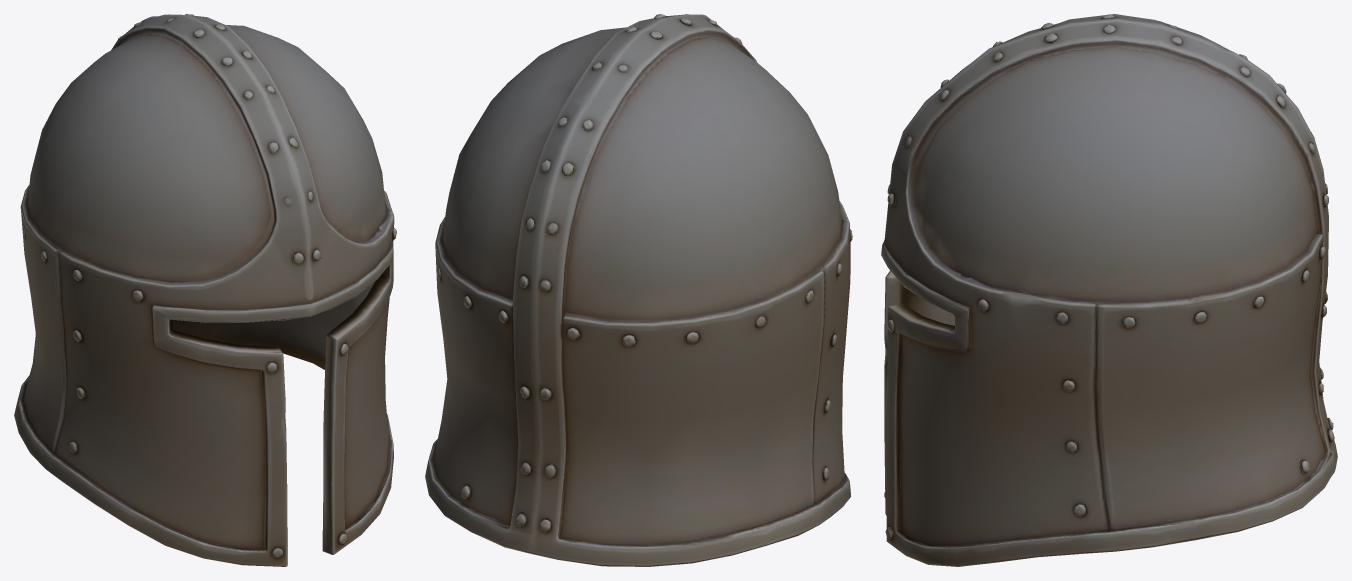
File: selected.glb
3 views of the same model, side by side, from view 1: azimuth 30°, elevation 25°; view 2: azimuth 150°, elevation 25°; view 3: azimuth 270°, elevation 25° (orthographic). The views are drawn at different scales.
Parts seen in each view (by area): view 1: tripo_node_a4f84f2f-1716-4044-85ce-13b8f392ee32; view 2: tripo_node_a4f84f2f-1716-4044-85ce-13b8f392ee32; view 3: tripo_node_a4f84f2f-1716-4044-85ce-13b8f392ee32.
Boxes of the visible parts, x1,y1,x2,y2 form: tripo_node_a4f84f2f-1716-4044-85ce-13b8f392ee32: (14,14,396,566); tripo_node_a4f84f2f-1716-4044-85ce-13b8f392ee32: (425,14,852,566); tripo_node_a4f84f2f-1716-4044-85ce-13b8f392ee32: (881,14,1337,566).
Bounding box in the file's own units: 0.7324 × 0.998 × 0.8105.
1 material, 1 textured.
